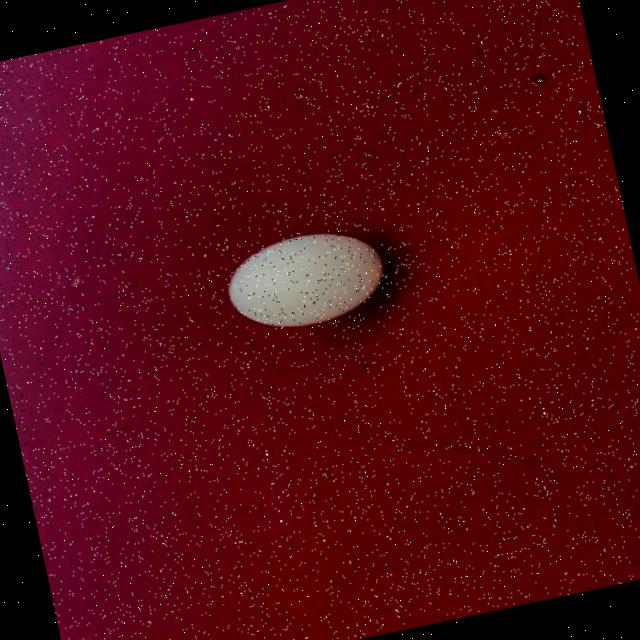ping-pong-ball: (214, 215, 398, 341)
